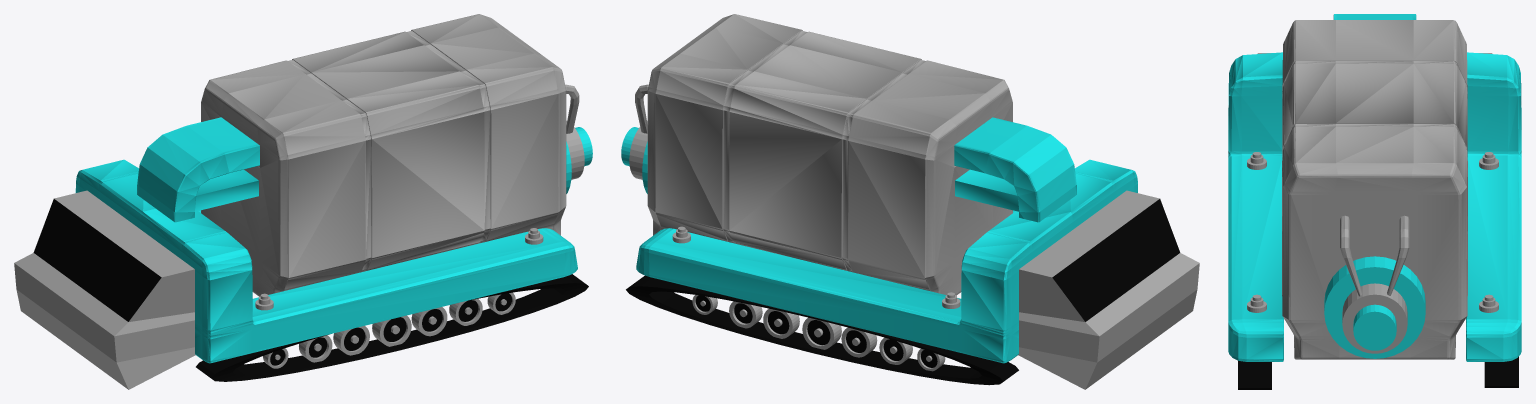
3 views of the same model, side by side, from view 1: azimuth 30°, elevation 25°; view 2: azimuth 150°, elevation 25°; view 3: azimuth 270°, elevation 25° (orthographic). The views are drawn at different scales.
Parts seen in each view (by area): view 1: Transporter.001; view 2: Transporter.001; view 3: Transporter.001.
Part boxes in pixels (bbox=[...]): Transporter.001: bbox=[14, 14, 592, 389]; Transporter.001: bbox=[621, 14, 1199, 389]; Transporter.001: bbox=[1228, 14, 1521, 389].
Size of the model in its own units: 790 by 321 by 356.
